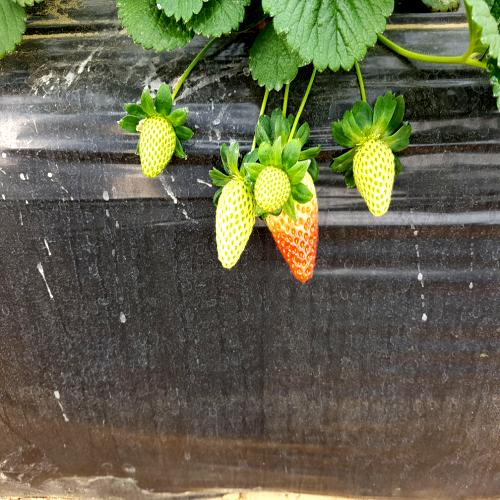partially-ripe: (266, 149, 326, 286)
unripe: (207, 165, 262, 278), (348, 130, 402, 227), (133, 107, 177, 188)
